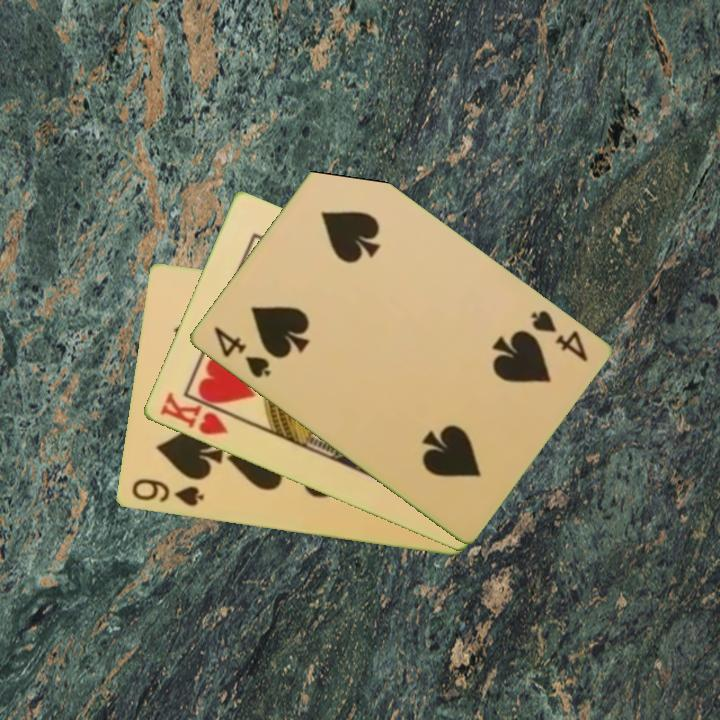4s: (209, 323, 273, 382), (526, 306, 590, 365)
9s: (127, 475, 207, 510)
Kh: (156, 389, 240, 439)
